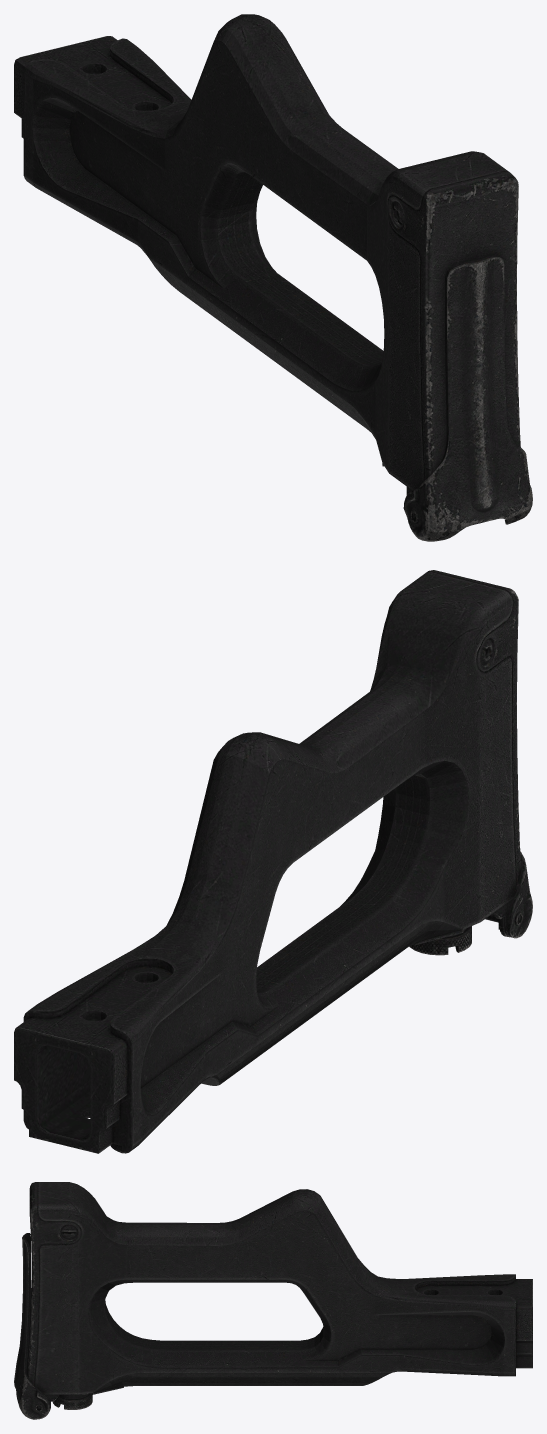
The picture shows the model from 3 angles, top to bottom: view 1: azimuth 30°, elevation 25°; view 2: azimuth 150°, elevation 25°; view 3: azimuth 270°, elevation 25°; orthographic projection. The views are drawn at different scales.
Visible parts, largest first — view 1: TW_6492e3a97df7d749100e29ee_PZ_Import; view 2: TW_6492e3a97df7d749100e29ee_PZ_Import; view 3: TW_6492e3a97df7d749100e29ee_PZ_Import.
Part boxes in pixels (<box>): TW_6492e3a97df7d749100e29ee_PZ_Import: <box>14,14,532,541</box>; TW_6492e3a97df7d749100e29ee_PZ_Import: <box>14,570,532,1153</box>; TW_6492e3a97df7d749100e29ee_PZ_Import: <box>14,1182,532,1419</box>.
Size of the model in its own units: 0.0258 by 0.174 by 0.0801.
1 material, 1 textured.
